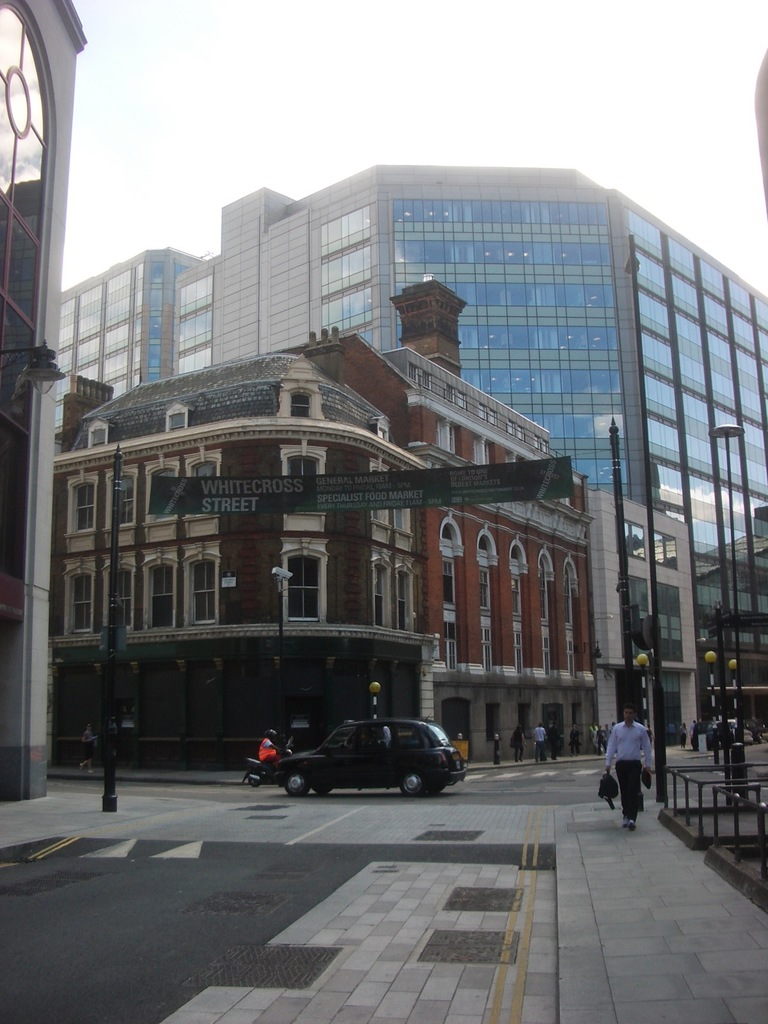car: (240, 683, 488, 814)
